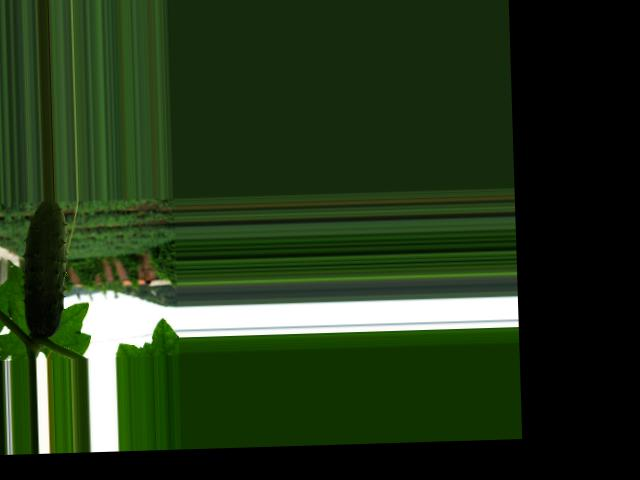cucumber: (21, 199, 69, 337)
